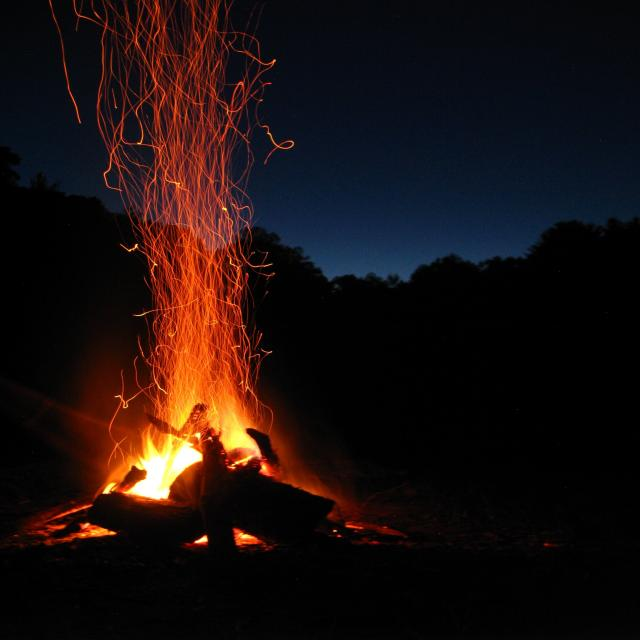fire: (62, 0, 374, 507)
